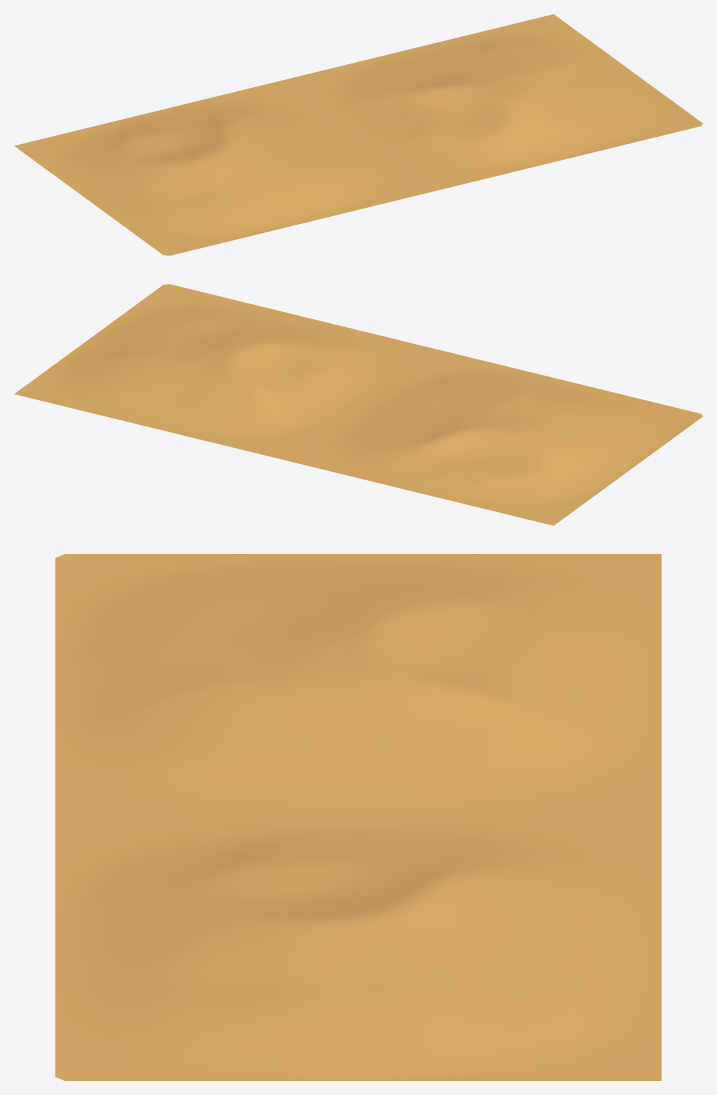
File: Sandbiome02.fbx
3 renders of one model, top to bottom at view 1: azimuth 30°, elevation 25°; view 2: azimuth 150°, elevation 25°; view 3: azimuth 270°, elevation 25°, orthographic. The views are drawn at different scales.
Visible parts, largest first — view 1: sandbiome2; view 2: sandbiome2; view 3: sandbiome2.
Part boxes in pixels (box(x1,y1,x2,y2)): sandbiome2: box(14, 14, 702, 255); sandbiome2: box(14, 284, 702, 525); sandbiome2: box(55, 554, 661, 1080).
Bounding box in the file's own units: 40.87 × 0.8874 × 19.89.
